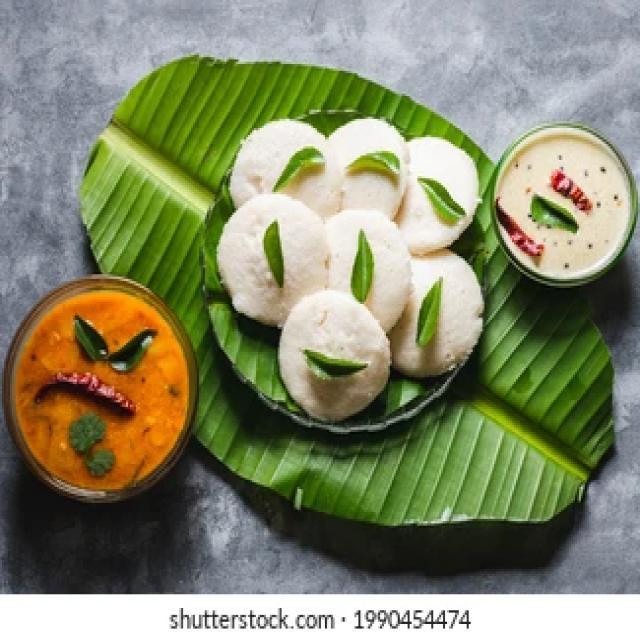IDLI: (217, 194, 325, 325), (280, 293, 386, 418), (390, 249, 482, 375), (230, 119, 343, 217), (327, 210, 410, 331), (400, 139, 479, 254), (329, 119, 406, 217)
